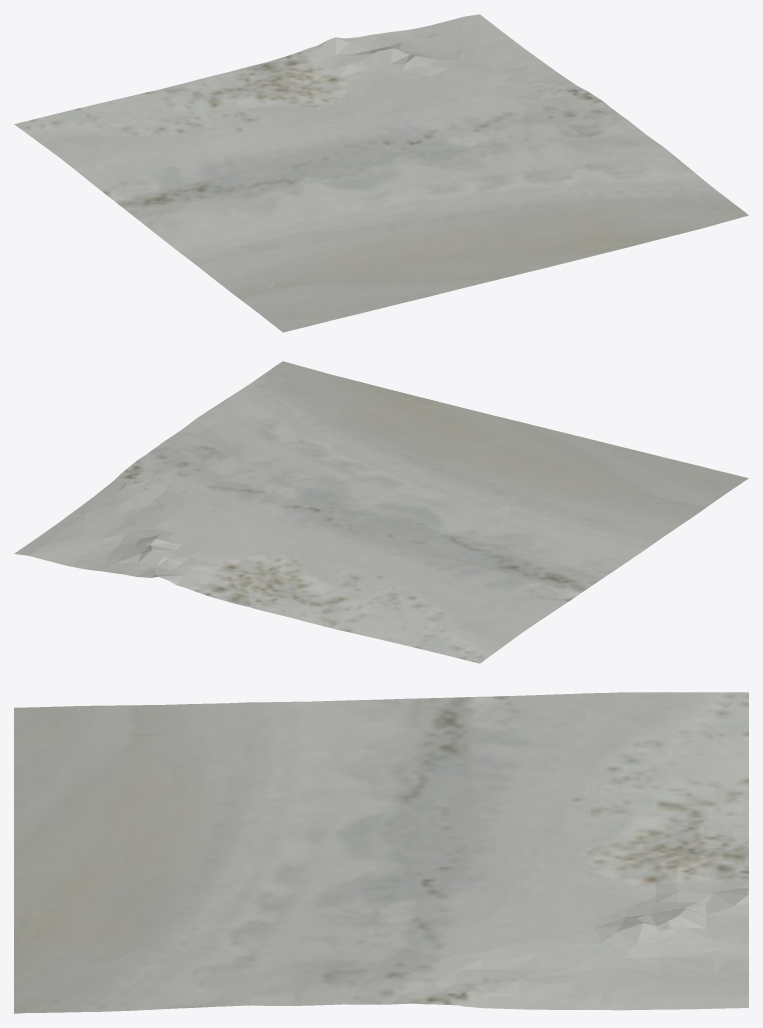
The picture shows the model from 3 angles, top to bottom: view 1: azimuth 30°, elevation 25°; view 2: azimuth 150°, elevation 25°; view 3: azimuth 270°, elevation 25°; orthographic projection. The views are drawn at different scales.
Bounding box in the file's own units: 104 × 4.29 × 104.
Materials: 2 (2 with a texture image).
